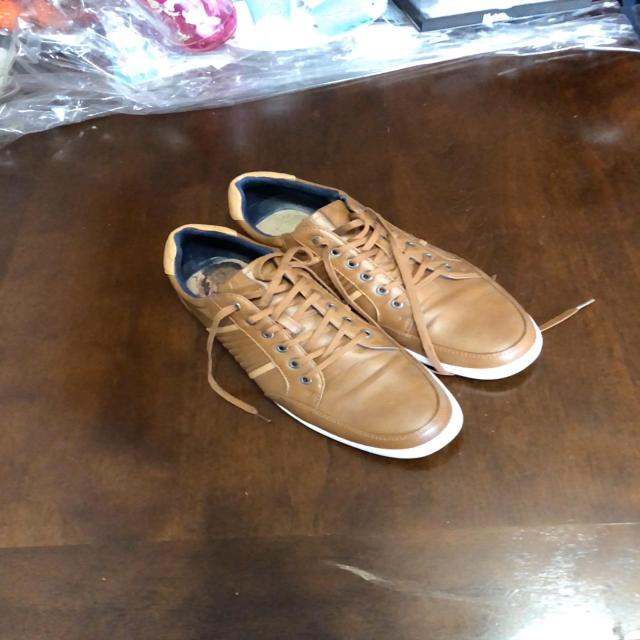shoe: (162, 224, 462, 458), (231, 171, 538, 372)
